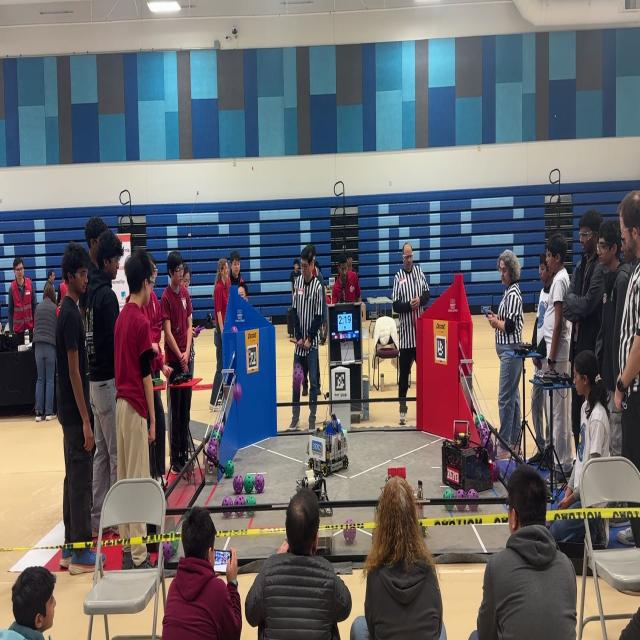artifact_green: (161, 542, 171, 562), (224, 460, 235, 478), (244, 474, 254, 493), (246, 495, 256, 506), (171, 540, 178, 555), (214, 431, 221, 444), (445, 503, 454, 510)
artifact_purple: (344, 519, 356, 543), (482, 430, 493, 455), (293, 364, 303, 389), (207, 438, 217, 458), (233, 475, 243, 494), (255, 474, 264, 493), (163, 542, 171, 562), (481, 427, 489, 446), (486, 438, 494, 456), (492, 463, 499, 481), (234, 383, 241, 401), (214, 423, 223, 436), (235, 495, 245, 506), (222, 496, 233, 506), (475, 422, 481, 437), (456, 489, 466, 498), (469, 504, 478, 511), (231, 326, 237, 333)
